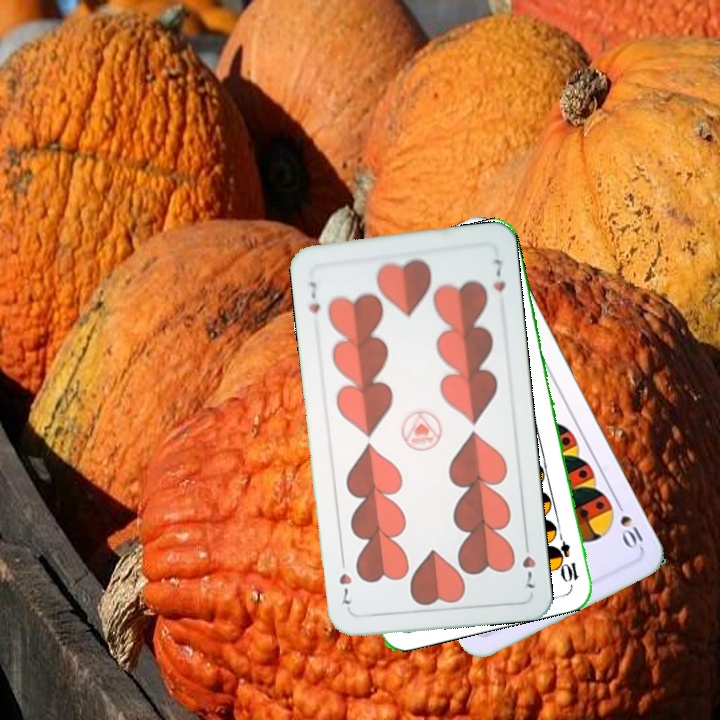E10: (551, 526, 581, 585)
H7: (518, 535, 539, 591), (304, 277, 323, 316)
S10: (611, 496, 646, 552)
